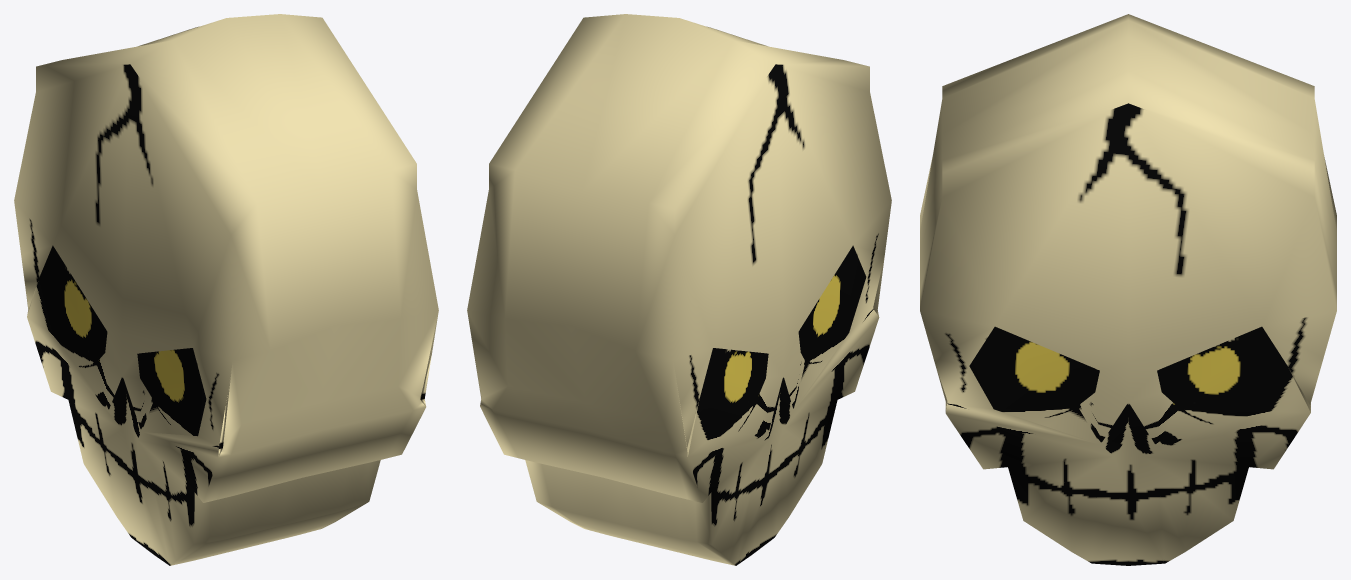
The model's file is PROYECTIL.fbx.
The picture shows the model from 3 angles, left to right: view 1: azimuth 30°, elevation 25°; view 2: azimuth 150°, elevation 25°; view 3: azimuth 270°, elevation 25°; orthographic projection. The views are drawn at different scales.
Visible parts, largest first — view 1: Cube; view 2: Cube; view 3: Cube.
Part boxes in pixels (left/top/right/bottom): Cube: left=14, top=14, right=438, bottom=565; Cube: left=467, top=14, right=891, bottom=565; Cube: left=920, top=14, right=1336, bottom=565.
Bounding box in the file's own units: 44.23 × 105 × 80.05.
Materials: 1 (1 with a texture image).
